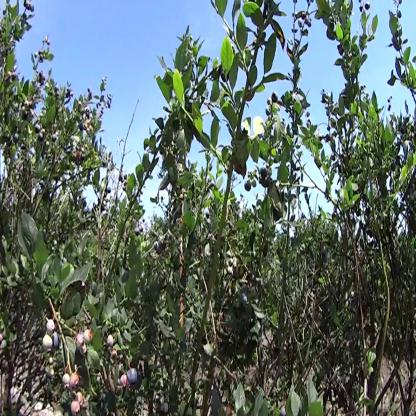intermediate: (70, 373, 80, 386), (120, 373, 128, 386), (73, 403, 79, 413)
mature: (128, 367, 140, 386)
young: (76, 327, 95, 351), (43, 317, 59, 337), (41, 336, 55, 353), (107, 334, 115, 348), (63, 374, 71, 387)
